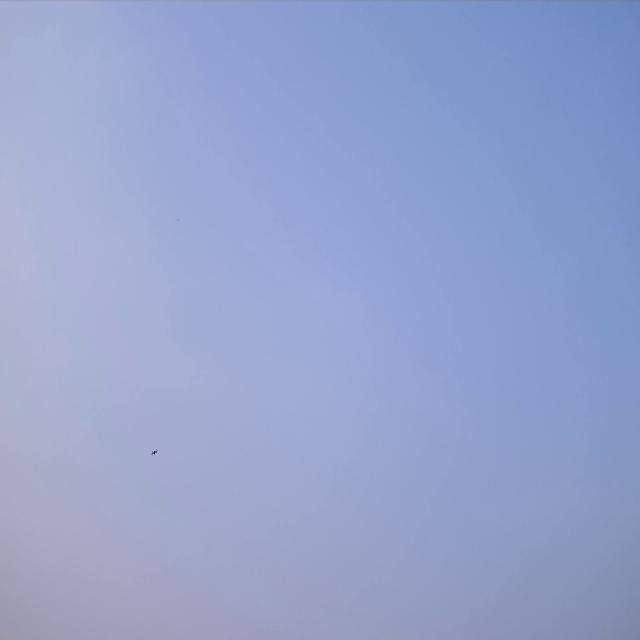UAV: (151, 448, 157, 457)
